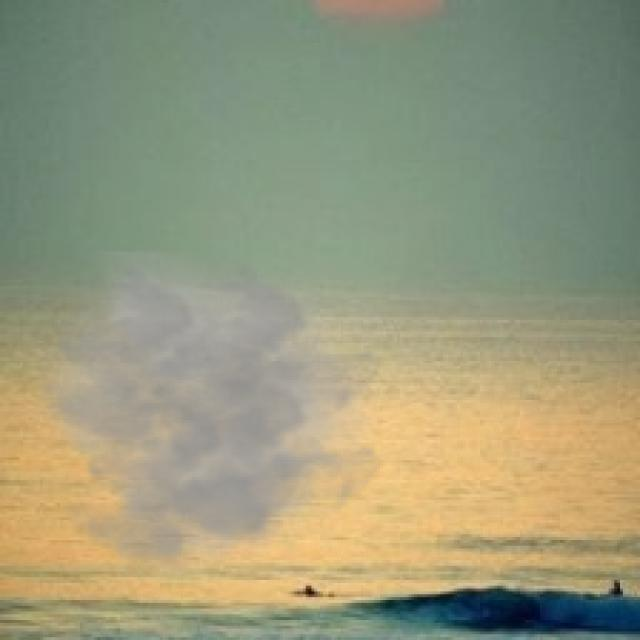smoke: (29, 252, 388, 597)
